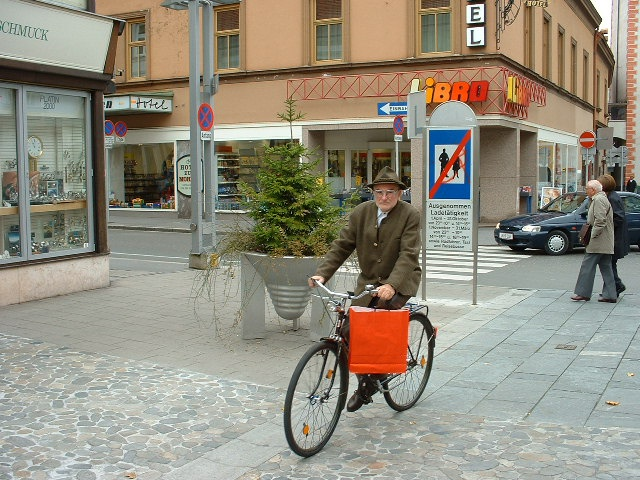person: (346, 169, 421, 423), (571, 172, 622, 306)
